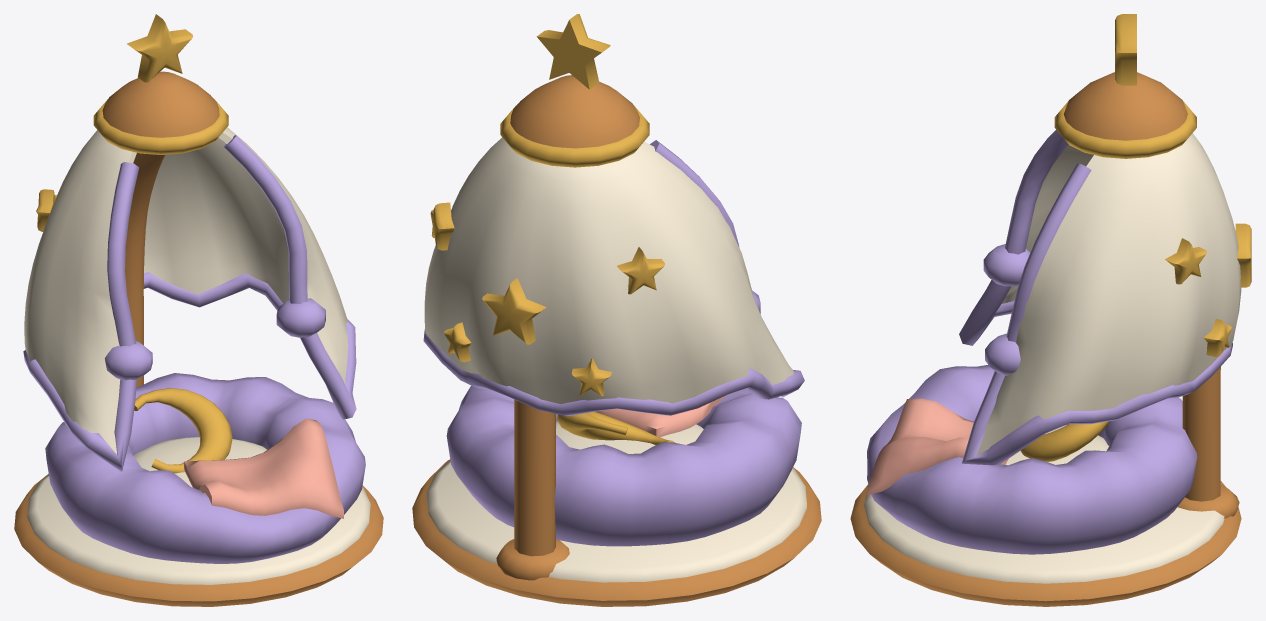
File: ShopBedCanopy.fbx
3 views of the same model, side by side, from view 1: azimuth 30°, elevation 25°; view 2: azimuth 150°, elevation 25°; view 3: azimuth 270°, elevation 25° (orthographic). The views are drawn at different scales.
Parts seen in each view (by area): view 1: ShopBedCanopy; view 2: ShopBedCanopy; view 3: ShopBedCanopy.
Boxes of the visible parts, x1,y1,x2,y2 form: ShopBedCanopy: [14, 14, 383, 606]; ShopBedCanopy: [412, 14, 821, 606]; ShopBedCanopy: [850, 14, 1251, 606].
Bounding box in the file's own units: 0.98 × 1.43 × 1.
